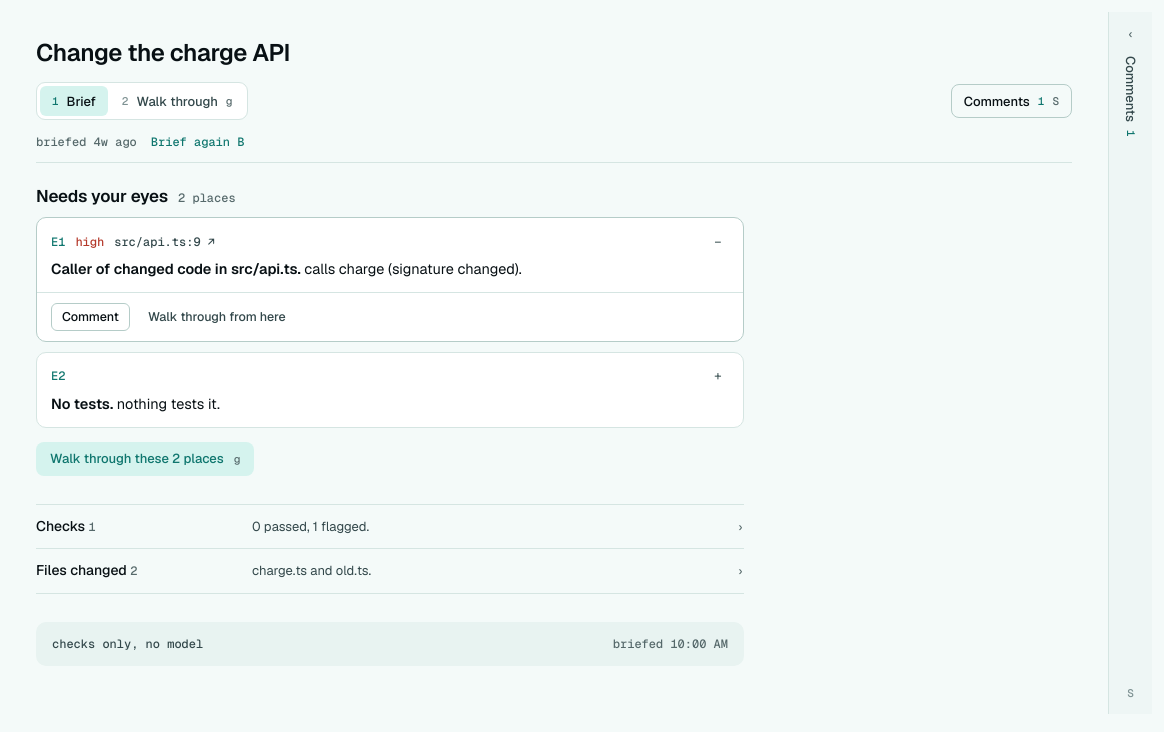
it: the drawer's shape › folds to a rail saying how many drafts there are, which opens it again
Click the button "Comments 1 S" at (1011, 101), box 951,84 -> 1072,118
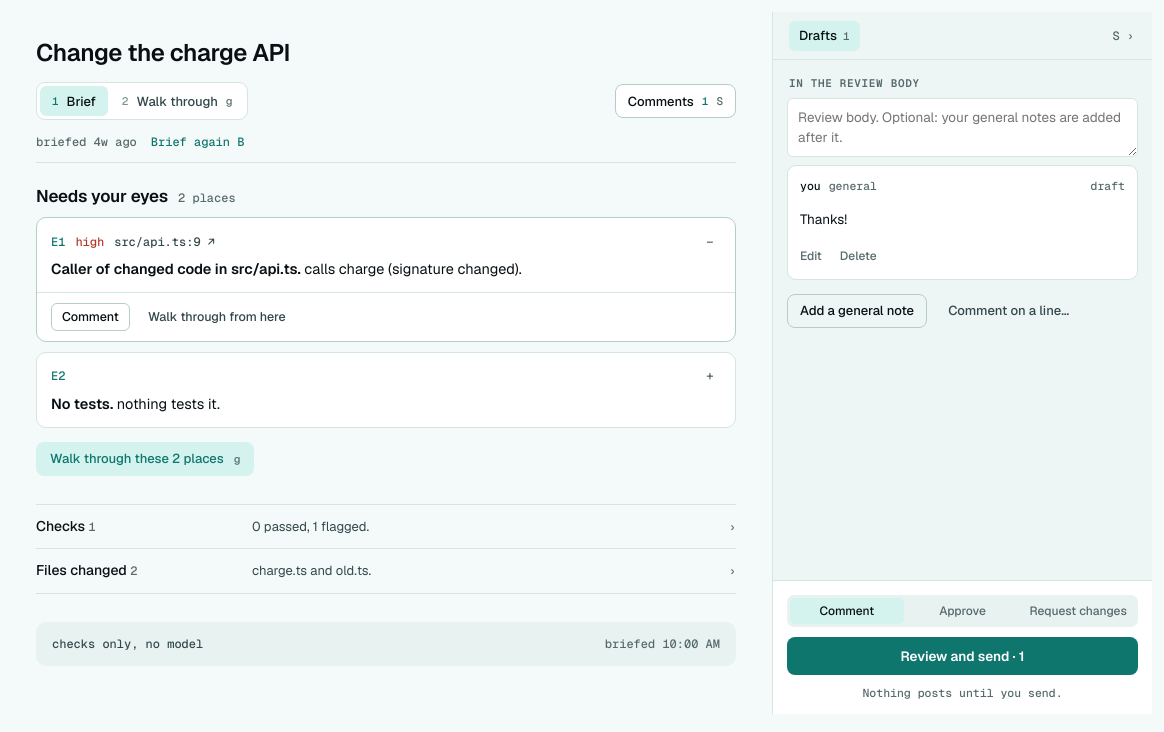
Press s
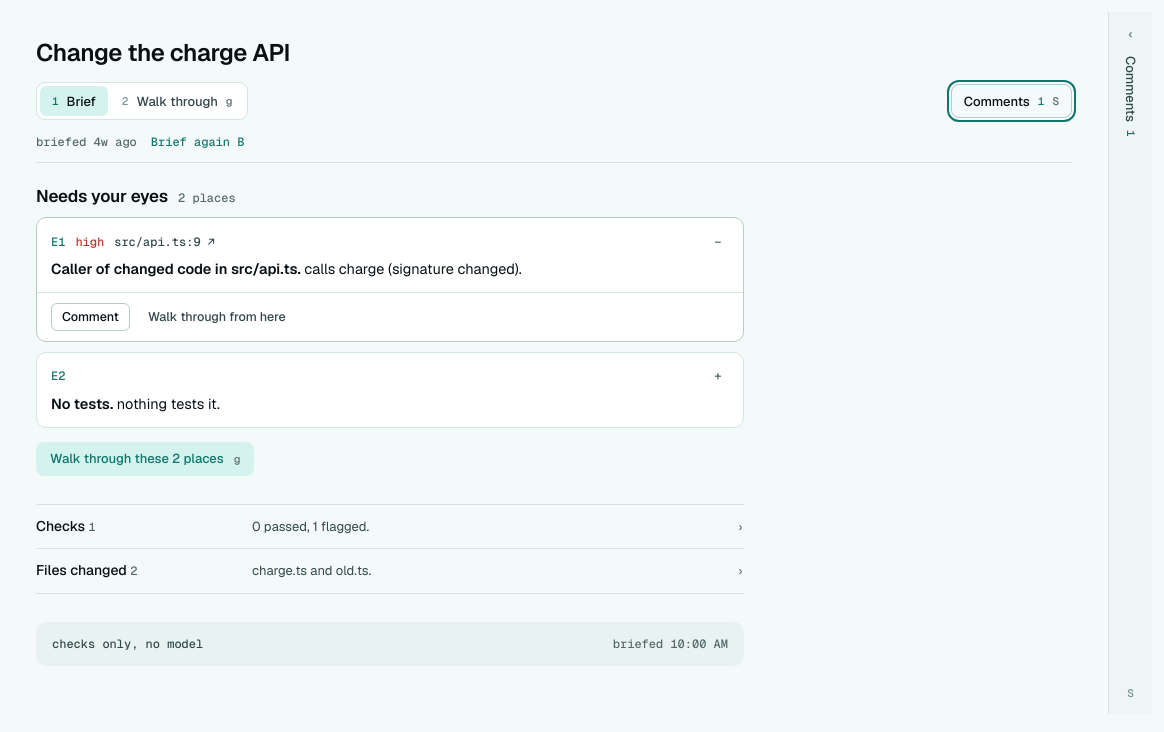
Result: the button with aria-label "Open comments, 1 draft" reads "‹ Comments 1 S"
Click the button with aria-label "Open comments, 1 draft" at (1130, 363), box 1108,12 -> 1152,714
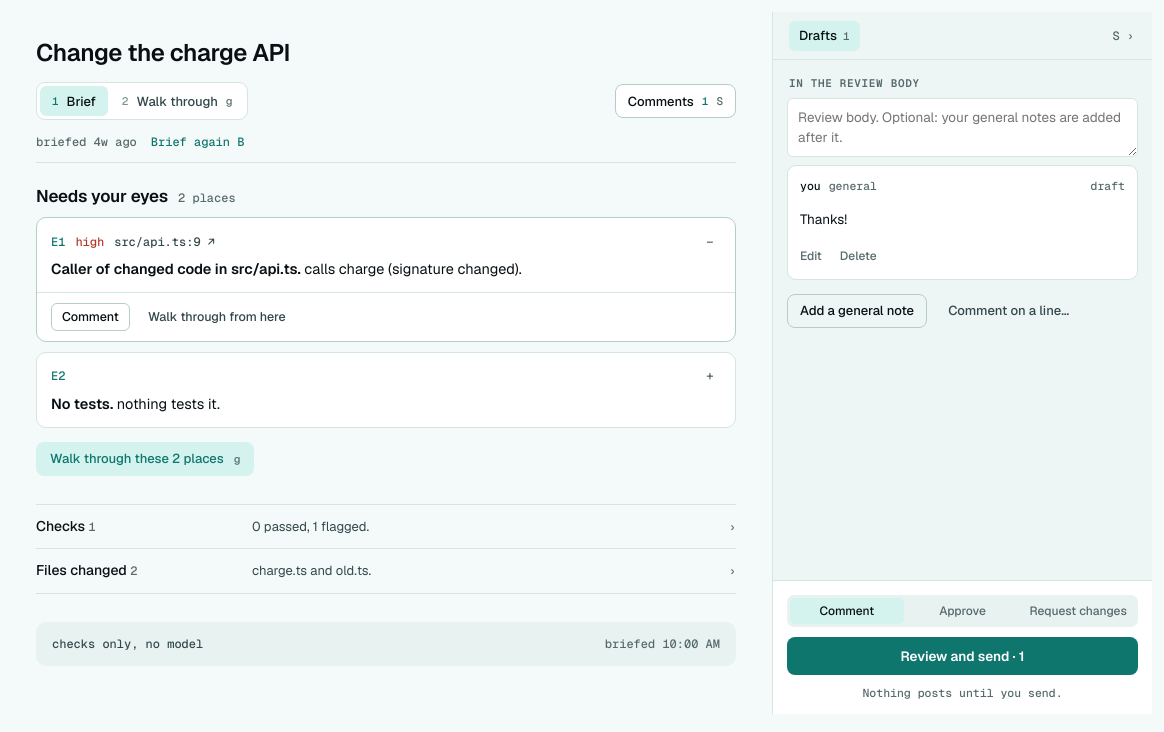
Result: the element named "Comments" is shown at 772,12 -> 1152,714
Click the button named "Close comments" at (1123, 36), box 1104,22 -> 1142,50
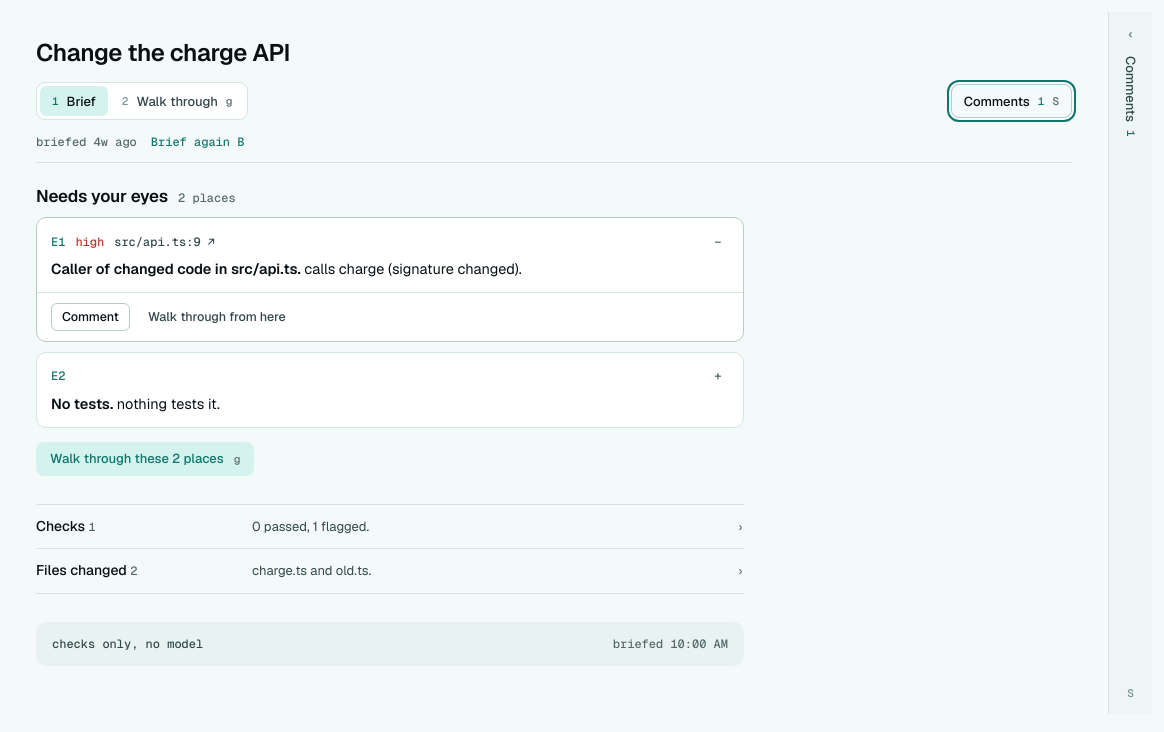
Press s
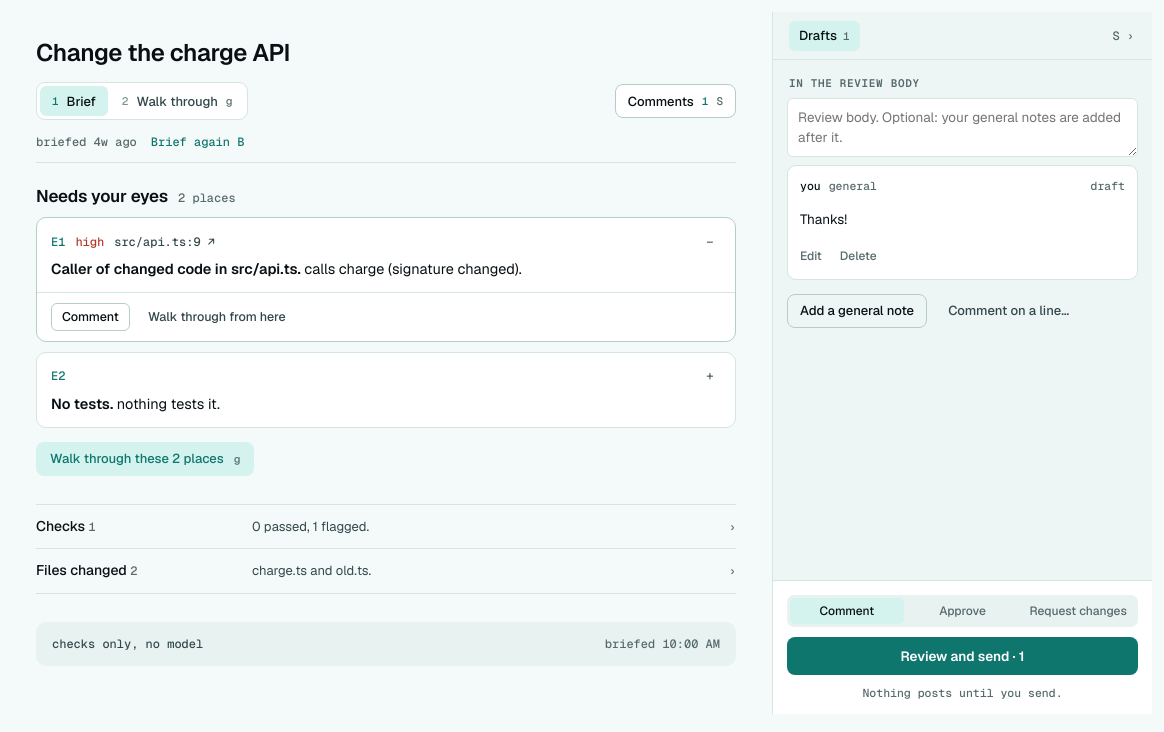
Result: the element named "Comments" is shown at 772,12 -> 1152,714
